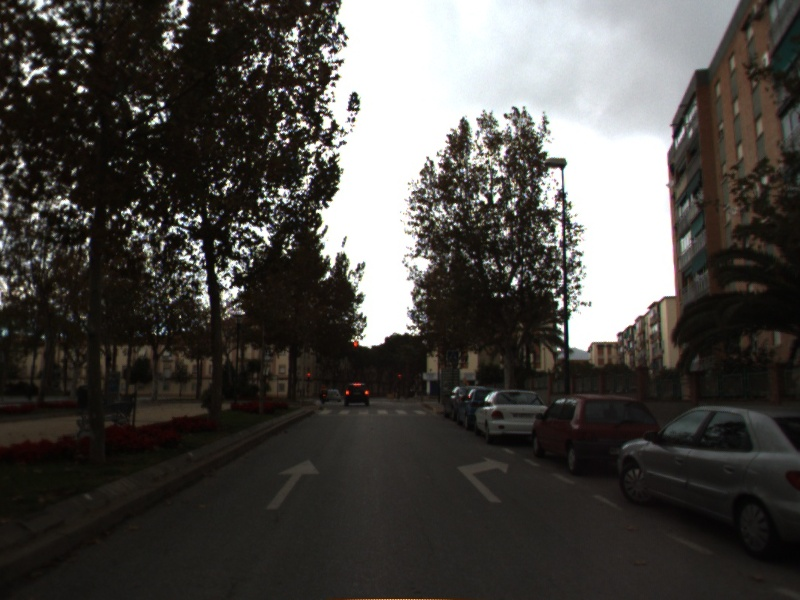RIGHT: (453, 454, 511, 505)
STRAIGHT: (264, 457, 323, 512)
